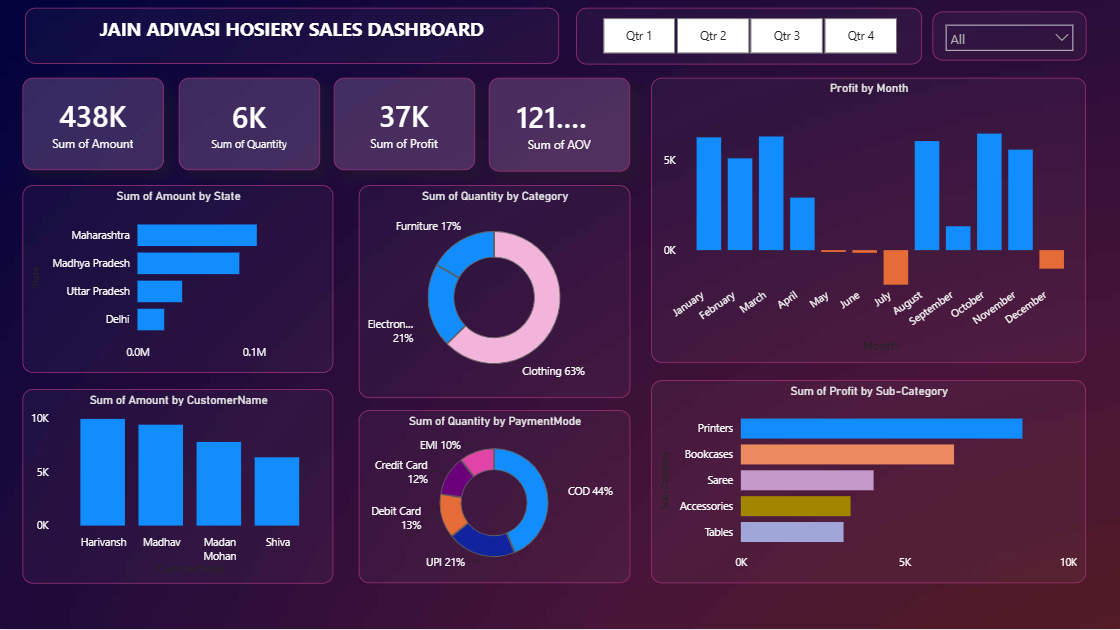

Layout of this report page (visuals, bound fields, positions):
{"tool":"powerbi","page":{"name":"Page 1","canvas":[1280,720],"ordinal":0},"visuals":[{"type":"textbox","box":[28,10,610,64],"z":0},{"type":"columnChart","title":"Profit by Month","fields":{"Y":["Sum(Details.Profit)"],"Category":["Orders.Order Date.Variation.Date Hierarchy.Month"]},"box":[743.7,90.6,496.7,325.2],"z":1000},{"type":"barChart","fields":{"Category":["Details.Sub-Category"],"Y":["Sum(Details.Profit)"]},"box":[743.7,436.4,496.7,231.9],"z":2000},{"type":"donutChart","fields":{"Category":["Details.Category"],"Y":["Sum(Details.Quantity)"]},"box":[410.3,212.7,310.1,242.9],"z":3000},{"type":"donutChart","fields":{"Category":["Details.PaymentMode"],"Y":["Sum(Details.Quantity)"]},"box":[410.3,470.7,310.1,197.6],"z":4000},{"type":"cardVisual","fields":{"Data":["Sum(Details.Amount)"]},"box":[26.1,90.6,161.9,105.7],"z":5000},{"type":"cardVisual","fields":{"Data":["Sum(Details.Quantity)"]},"box":[204.5,90.6,161.9,105.7],"z":6000},{"type":"cardVisual","fields":{"Data":["Sum(Details.Profit)"]},"box":[381.5,90.6,161.9,105.7],"z":7000},{"type":"cardVisual","fields":{"Data":["Sum(Details.AOV)"]},"box":[558.5,90.6,161.9,107],"z":8000},{"type":"barChart","fields":{"Category":["Orders.State"],"Y":["Sum(Details.Amount)"]},"box":[26.1,212.7,355.4,214.1],"z":9000},{"type":"columnChart","fields":{"Category":["Orders.CustomerName"],"Y":["Sum(Details.Amount)"]},"box":[26.1,446,355.4,222.3],"z":10000},{"type":"slicer","fields":{"Values":["Orders.Order Date.Variation.Date Hierarchy.Quarter"]},"box":[658.7,9.6,395.2,64.5],"z":11000},{"type":"slicer","fields":{"Values":["Orders.State"]},"box":[1065.8,13.7,175.8,55.8],"z":11001}]}

Visuals, with their boxes in screenshot pixels (x1, y1, x2, y2), scaled from the page's 1280x720 canvas onto the 1120x630 screenshot:
textbox: (left=24, top=9, right=558, bottom=65)
"Profit by Month" columnChart: (left=651, top=79, right=1085, bottom=364)
barChart - Details.Sub-Category x Sum(Details.Profit): (left=651, top=382, right=1085, bottom=585)
donutChart - Details.Category x Sum(Details.Quantity): (left=359, top=186, right=630, bottom=399)
donutChart - Details.PaymentMode x Sum(Details.Quantity): (left=359, top=412, right=630, bottom=585)
cardVisual - Sum(Details.Amount): (left=23, top=79, right=164, bottom=172)
cardVisual - Sum(Details.Quantity): (left=179, top=79, right=321, bottom=172)
cardVisual - Sum(Details.Profit): (left=334, top=79, right=475, bottom=172)
cardVisual - Sum(Details.AOV): (left=489, top=79, right=630, bottom=173)
barChart - Orders.State x Sum(Details.Amount): (left=23, top=186, right=334, bottom=373)
columnChart - Orders.CustomerName x Sum(Details.Amount): (left=23, top=390, right=334, bottom=585)
slicer - Orders.Order Date.Variation.Date Hierarchy.Quarter: (left=576, top=8, right=922, bottom=65)
slicer - Orders.State: (left=933, top=12, right=1086, bottom=61)
